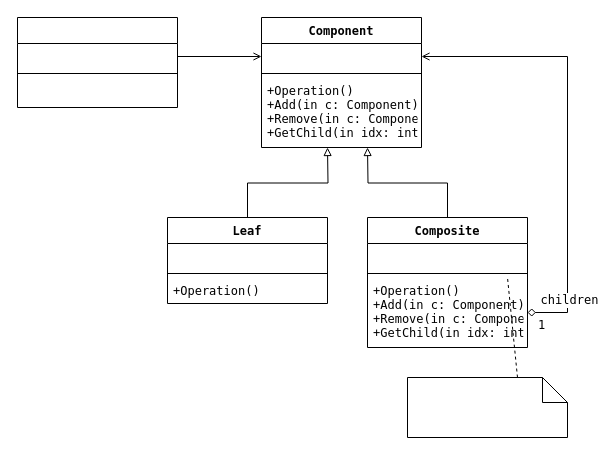
This 615x470 diagram has some shape labels left out. The centre of each missing label's shape, as x and y in pixels:
Client: (97,62)
foreach child in children child.Operation(): (487,407)
